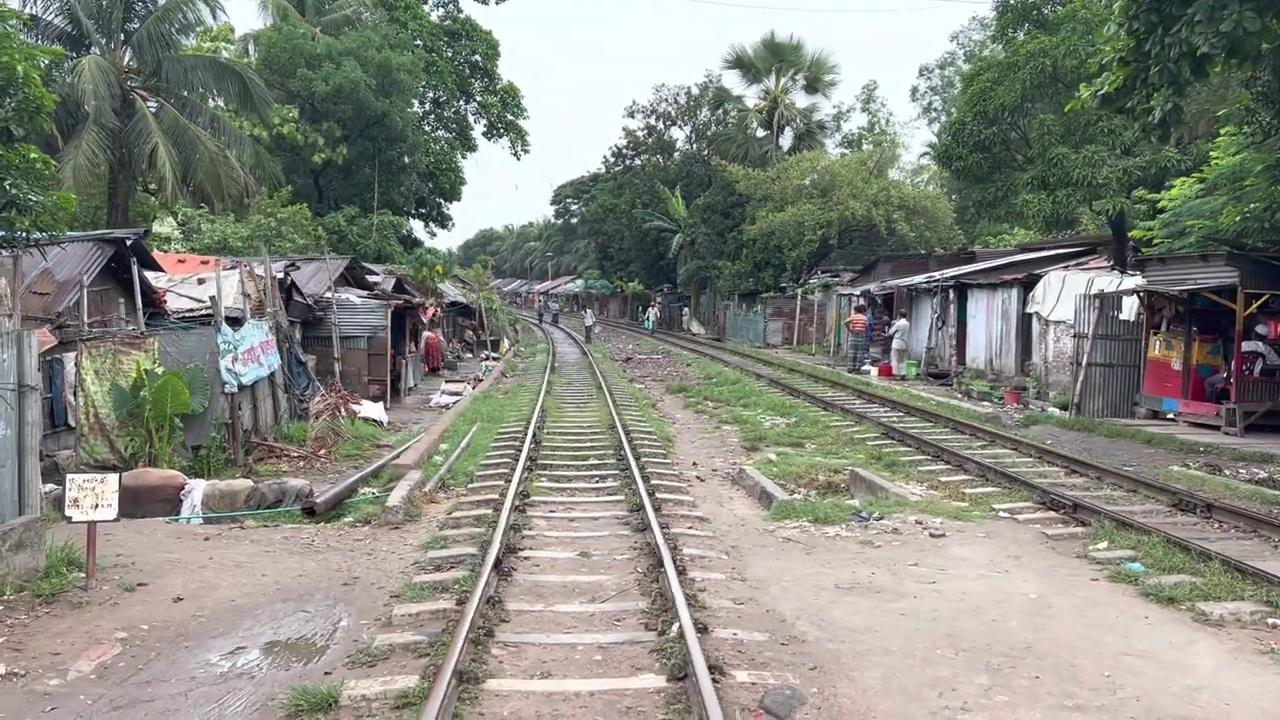Animal: (117, 466, 314, 520)
Fence: (881, 308, 910, 379), (581, 305, 595, 343), (644, 302, 660, 334), (680, 303, 689, 332)
Garbage: (85, 520, 97, 591)
Motorcycle: (575, 307, 1278, 589), (416, 303, 725, 718)
Pothole: (63, 471, 120, 522)
Railroad-crossing: (2, 0, 283, 232), (705, 27, 840, 168)
